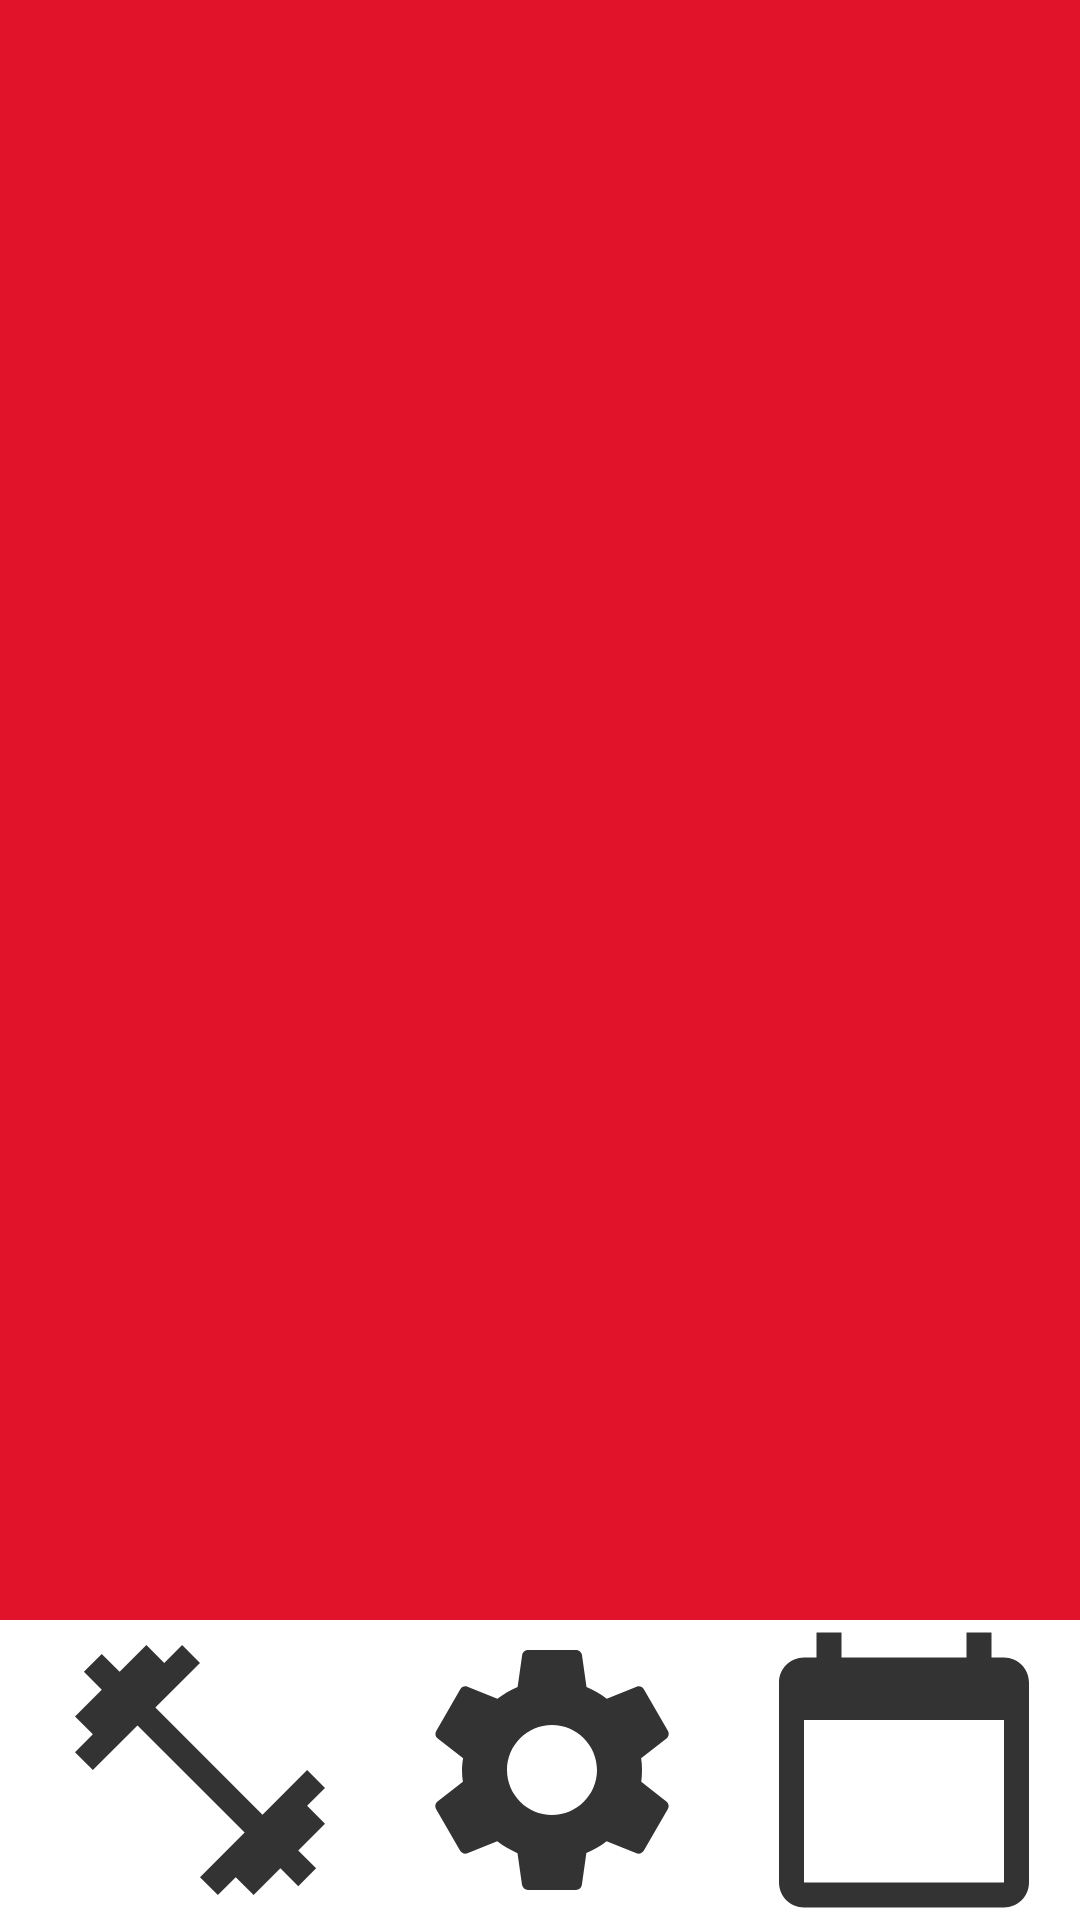

Icons on this 1080*1920 Android screen, each with the point to tap as (x=x, y=y):
btncalendar: (x=904, y=1770)
btncwiczenia: (x=200, y=1770)
btsettings: (x=552, y=1770)
